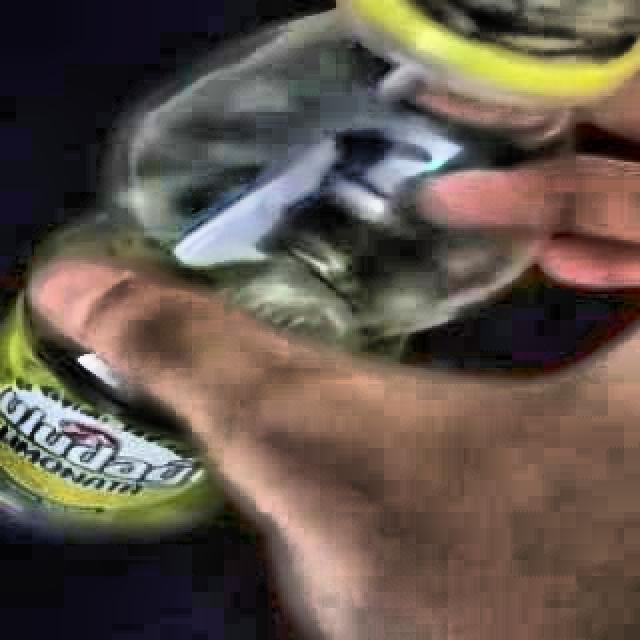plastic: (53, 0, 640, 356), (0, 302, 219, 528)
